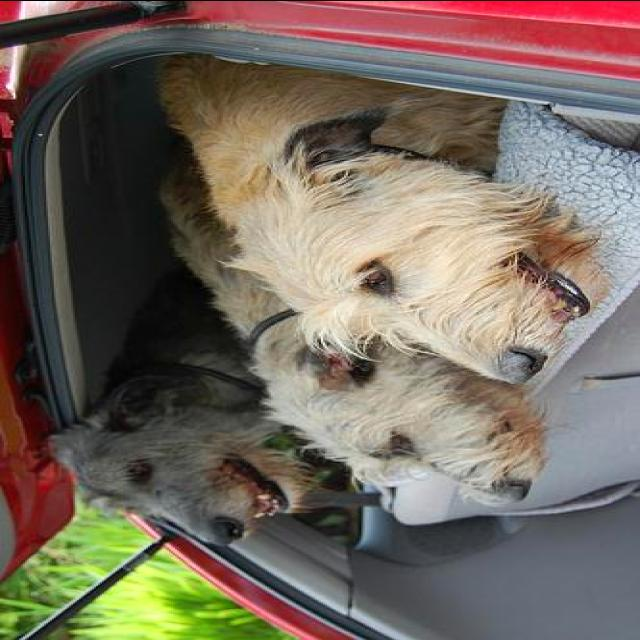irish_wolfhound: (148, 130, 567, 507), (150, 55, 617, 380), (44, 322, 321, 542)
